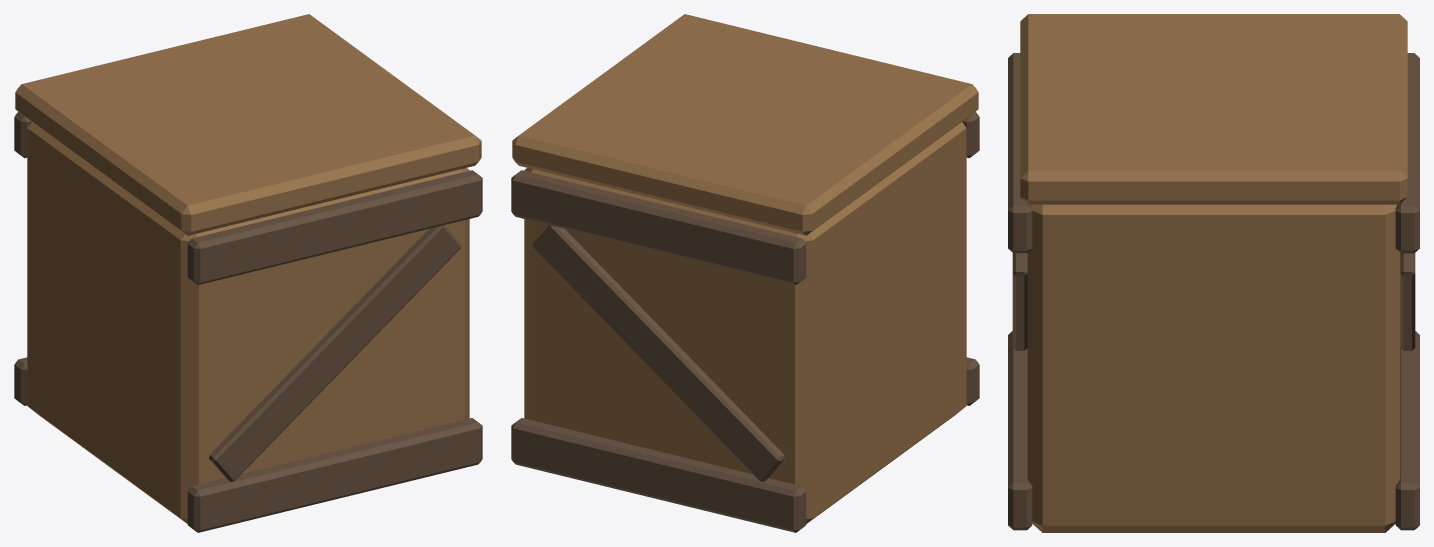
The model's file is objects-crate.lod0.glb.
The picture shows the model from 3 angles, left to right: view 1: azimuth 30°, elevation 25°; view 2: azimuth 150°, elevation 25°; view 3: azimuth 270°, elevation 25°; orthographic projection. The views are drawn at different scales.
Parts seen in each view (by area): view 1: objects-crate__body, objects-crate__lid; view 2: objects-crate__body, objects-crate__lid; view 3: objects-crate__body, objects-crate__lid.
Boxes of the visible parts, x1,y1,x2,y2 form: objects-crate__body: [14, 112, 482, 532]; objects-crate__lid: [15, 14, 481, 235]; objects-crate__body: [511, 112, 979, 532]; objects-crate__lid: [512, 14, 978, 235]; objects-crate__body: [1008, 53, 1419, 532]; objects-crate__lid: [1020, 14, 1407, 204].
Size of the model in its own units: 1.04 by 1.09 by 1.11.
